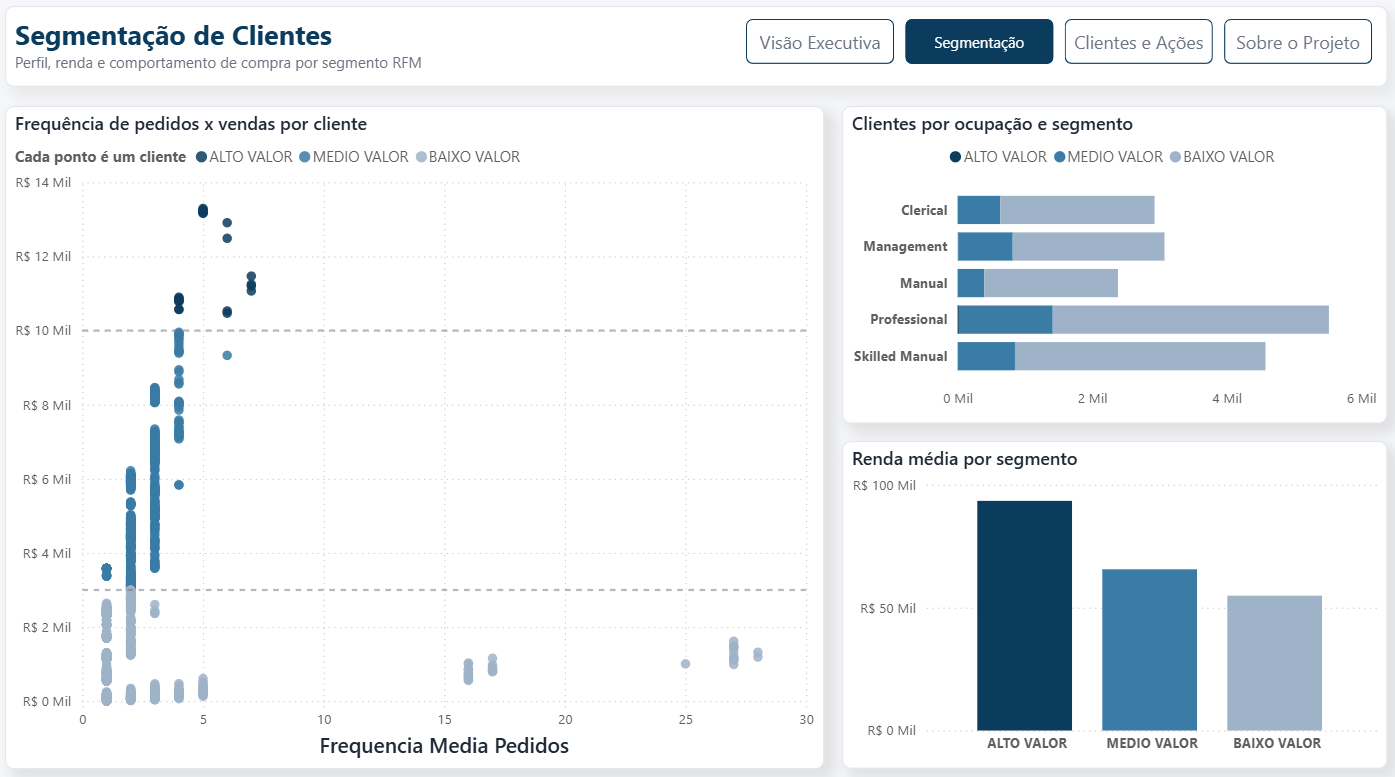

The page's visual inventory and layout, read from the dashboard file:
{"tool":"powerbi","page":{"name":"Segmentação","canvas":[1280,720],"ordinal":1},"visuals":[{"type":"scatterChart","title":"Frequência de pedidos x vendas por cliente","fields":{"Category":["DimCustomer.CustomerKey"],"Series":["DimCustomer.Segmento Cliente"],"X":["# Medidas.Frequencia Media Pedidos"],"Y":["# Medidas.Total Vendas"]},"box":[24.2,105,729.9,590.7],"z":0},{"type":"barChart","title":"Clientes por ocupação e segmento","fields":{"Category":["DimCustomer.EnglishOccupation"],"Series":["DimCustomer.Segmento Cliente"],"Y":["# Medidas.Qtd Clientes"]},"box":[770.3,105,485.7,282.8],"z":1000},{"type":"clusteredColumnChart","title":"Renda média por segmento","fields":{"Category":["DimCustomer.Segmento Cliente"],"Y":["Avg(DimCustomer.YearlyIncome)"]},"box":[770,404,486,292],"z":2000},{"type":"textbox","box":[24.2,16.2,1231.7,71.8],"z":3000},{"type":"pageNavigator","box":[684,28,560,40],"z":5000}]}

Visuals, with their boxes in screenshot pixels (x1, y1, x2, y2), scaled from the page's 1280x720 canvas onto the 1395x777 screenshot:
"Frequência de pedidos x vendas por cliente" scatterChart: select_region(26, 113, 822, 751)
"Clientes por ocupação e segmento" barChart: select_region(840, 113, 1369, 419)
"Renda média por segmento" clusteredColumnChart: select_region(839, 436, 1369, 751)
textbox: select_region(26, 17, 1369, 95)
pageNavigator: select_region(745, 30, 1356, 73)
